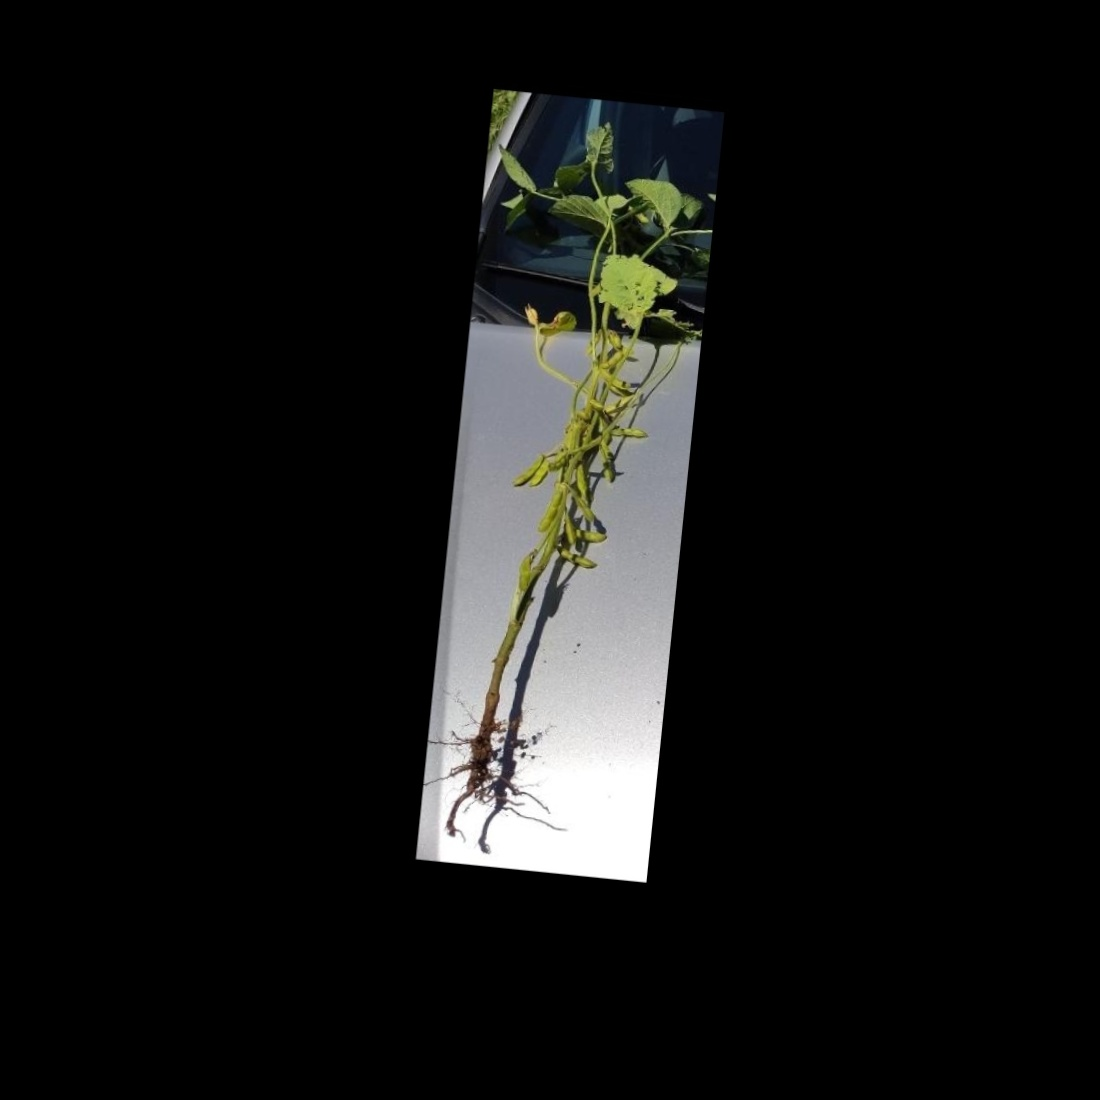pod: (538, 478, 568, 537), (510, 449, 545, 491), (553, 544, 604, 571), (603, 423, 652, 441), (597, 446, 618, 486)
soy: (436, 135, 686, 831)
